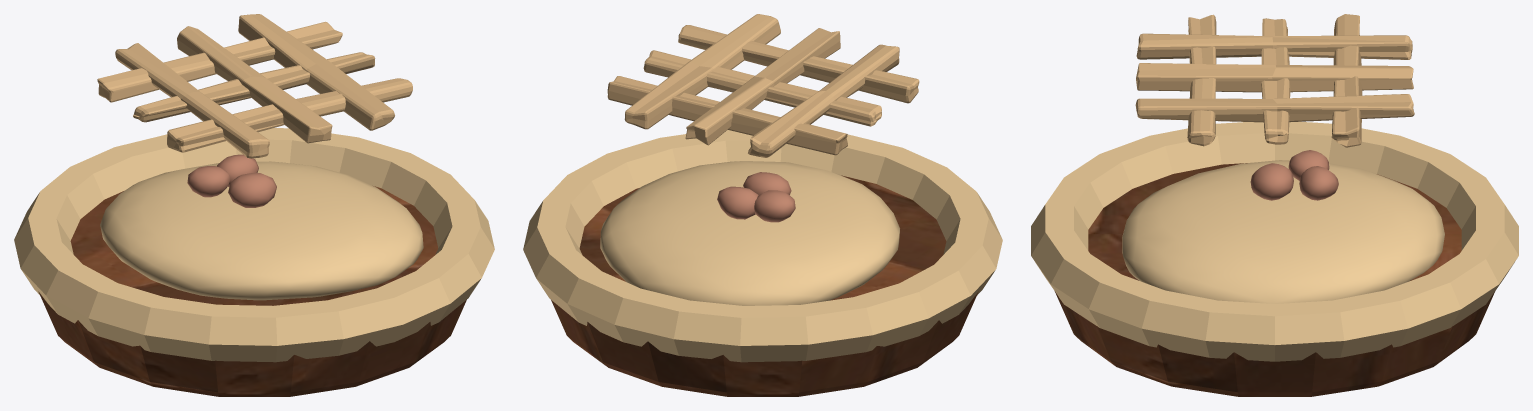
The model's file is dish_miners_pie.glb.
3 views of the same model, side by side, from view 1: azimuth 30°, elevation 25°; view 2: azimuth 150°, elevation 25°; view 3: azimuth 270°, elevation 25° (orthographic). The views are drawn at different scales.
Visible parts, largest first — view 1: model; view 2: model; view 3: model.
Part boxes in pixels (box(x1,y1,x2,y2)): model: box(14, 14, 494, 396); model: box(523, 14, 1002, 396); model: box(1031, 14, 1518, 396).
Size of the model in its own units: 0.306 by 0.1686 by 0.3029.
4 materials, 1 textured.
